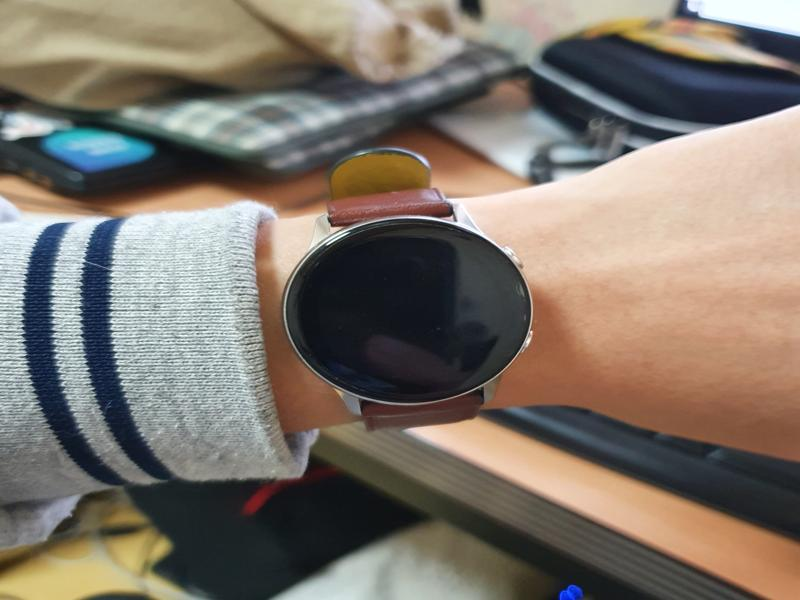watch: (282, 148, 537, 432)
